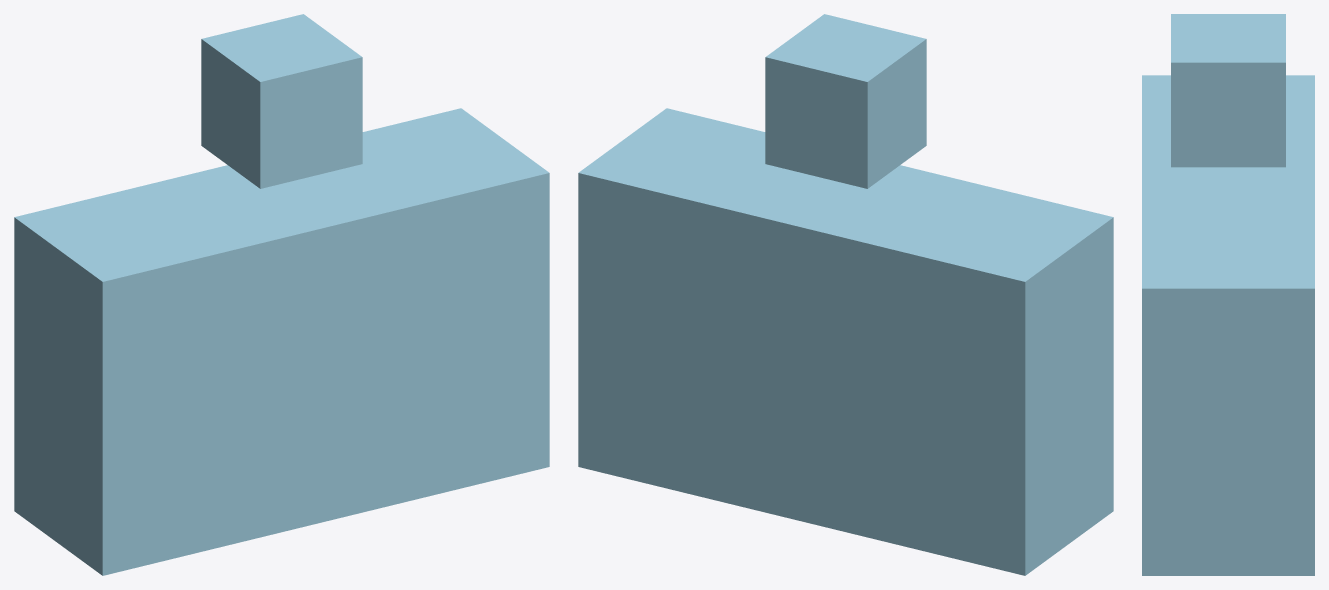
The model's file is 05_floss.glb.
3 renders of one model, left to right at view 1: azimuth 30°, elevation 25°; view 2: azimuth 150°, elevation 25°; view 3: azimuth 270°, elevation 25°, orthographic. The views are drawn at different scales.
Parts seen in each view (by area): view 1: dental_05_floss; view 2: dental_05_floss; view 3: dental_05_floss.
Boxes of the visible parts, bbox=[...] form: dental_05_floss: bbox=[14, 14, 549, 575]; dental_05_floss: bbox=[578, 14, 1113, 575]; dental_05_floss: bbox=[1142, 14, 1314, 575].
Size of the model in its own units: 0.35 by 0.33 by 0.12.
